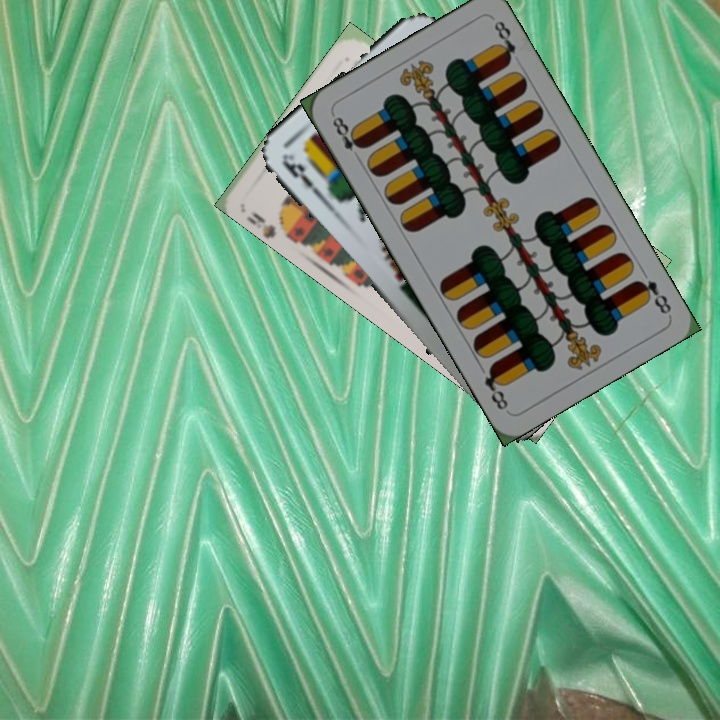E8: (631, 276, 674, 317), (328, 110, 367, 154)
EK: (278, 150, 324, 200)
S9: (244, 207, 297, 242)
